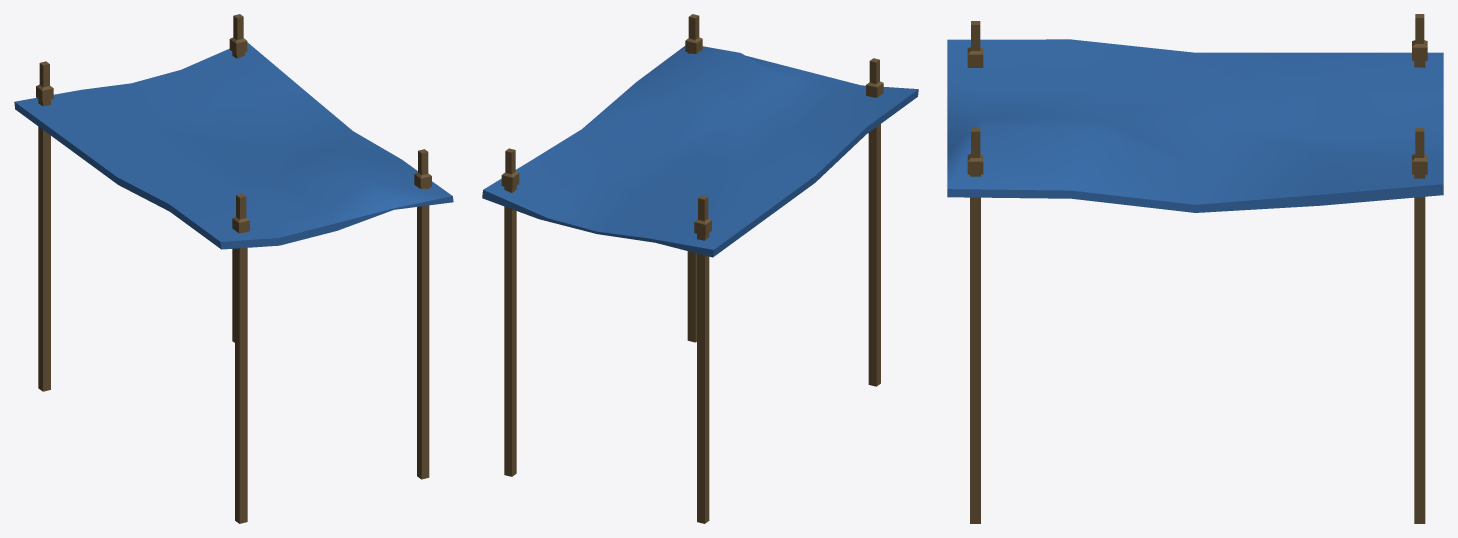
Rendered from Market_Tent_01.fbx.
3 views of the same model, side by side, from view 1: azimuth 30°, elevation 25°; view 2: azimuth 150°, elevation 25°; view 3: azimuth 270°, elevation 25° (orthographic). The views are drawn at different scales.
Parts seen in each view (by area): view 1: Market_Tent_02; view 2: Market_Tent_02; view 3: Market_Tent_02.
Part boxes in pixels (box(x1,y1,x2,y2)): Market_Tent_02: box(14, 14, 453, 523); Market_Tent_02: box(482, 14, 918, 523); Market_Tent_02: box(947, 14, 1443, 523).
Bounding box in the file's own units: 217 × 285 × 328.
1 material, 1 textured.
